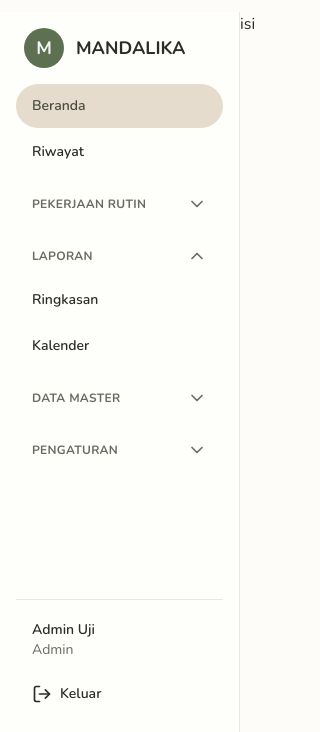
Scenario: pilihan untuk kelompok yang sudah dihapus › nilai tersimpan untuk kelompok lama Pengiriman Gudang diabaikan tanpa error; kelompok lain tetap mengikuti pilihannya
Click the button "Pekerjaan rutin". click: x=120, y=204
box: left=16, top=182, right=223, bottom=226
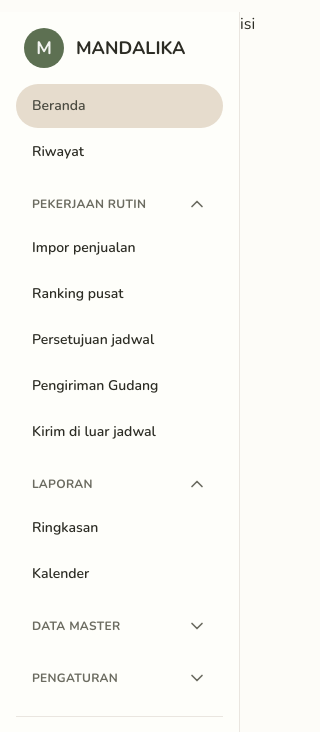
Now the link to "/pengiriman-gudang" is shown, box left=32, top=376, right=158, bottom=395
